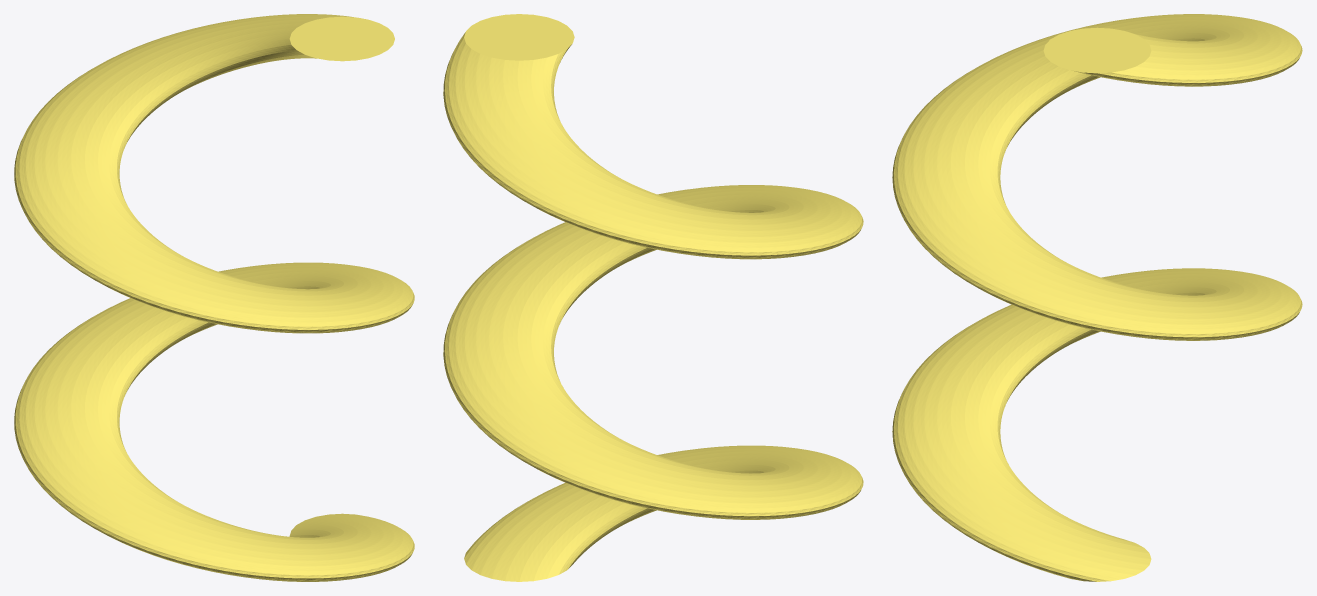
File: spring.glb
3 renders of one model, left to right at view 1: azimuth 30°, elevation 25°; view 2: azimuth 150°, elevation 25°; view 3: azimuth 270°, elevation 25°, orthographic. The views are drawn at different scales.
Bounding box in the file's own units: 19 × 26 × 19.
